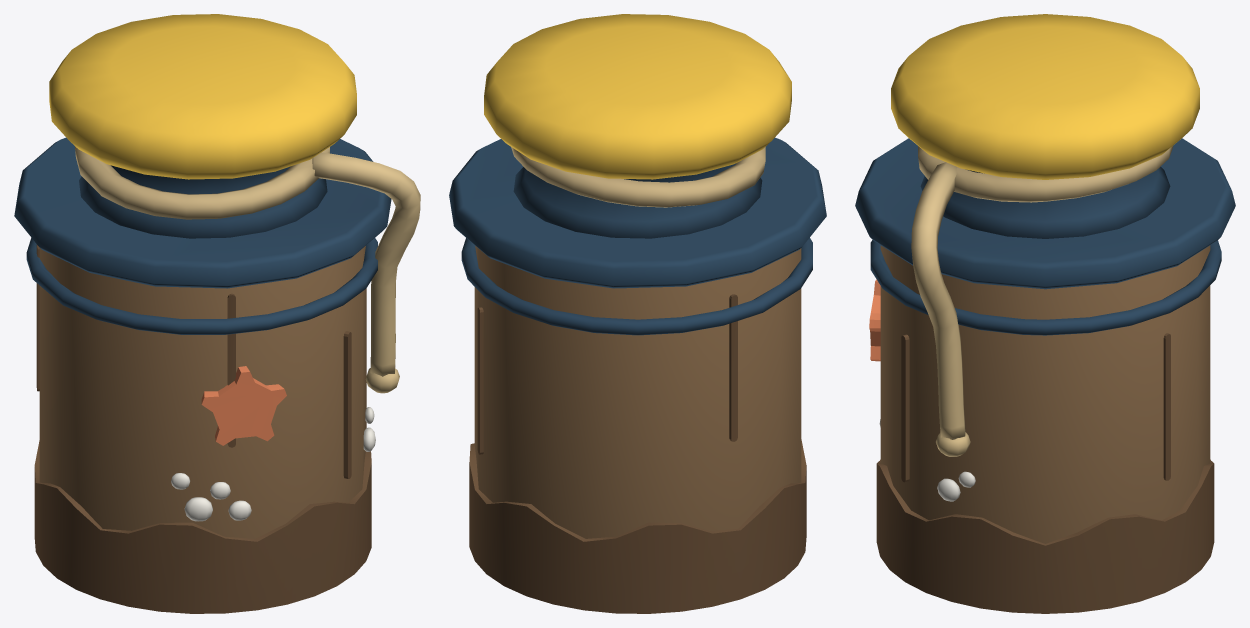
The model's file is pier-bollard.glb.
3 renders of one model, left to right at view 1: azimuth 30°, elevation 25°; view 2: azimuth 150°, elevation 25°; view 3: azimuth 270°, elevation 25°, orthographic.
Visible parts, largest first — view 1: pier-bollard; view 2: pier-bollard; view 3: pier-bollard.
Part boxes in pixels (x1=…): pier-bollard: x1=14, y1=14, x2=420, y2=613; pier-bollard: x1=449, y1=14, x2=826, y2=613; pier-bollard: x1=855, y1=14, x2=1235, y2=613.
Size of the model in its own units: 0.5665 by 0.787 by 0.5665.
